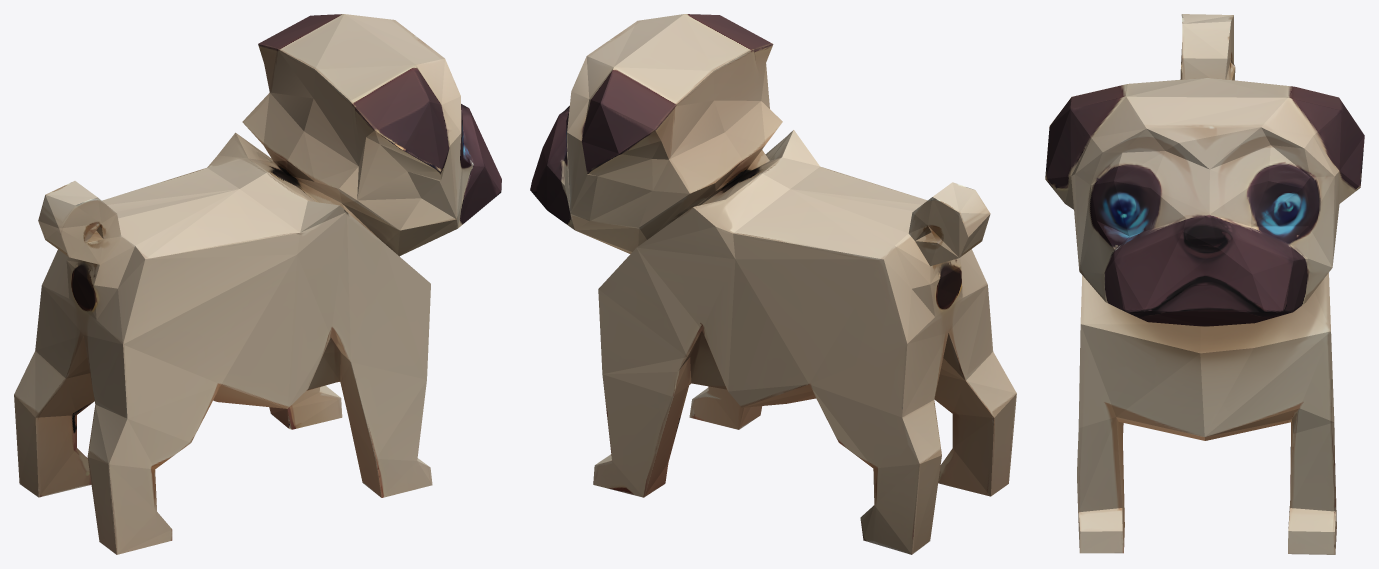
3 renders of one model, left to right at view 1: azimuth 30°, elevation 25°; view 2: azimuth 150°, elevation 25°; view 3: azimuth 270°, elevation 25°, orthographic. The views are drawn at different scales.
Visible parts, largest first — view 1: Figure; view 2: Figure; view 3: Figure.
Boxes of the visible parts, bbox=[...] form: Figure: bbox=[14, 14, 501, 554]; Figure: bbox=[530, 14, 1016, 554]; Figure: bbox=[1045, 14, 1364, 554].
Size of the model in its own units: 0.4579 by 0.4157 by 0.2624.
1 material, 1 textured.
